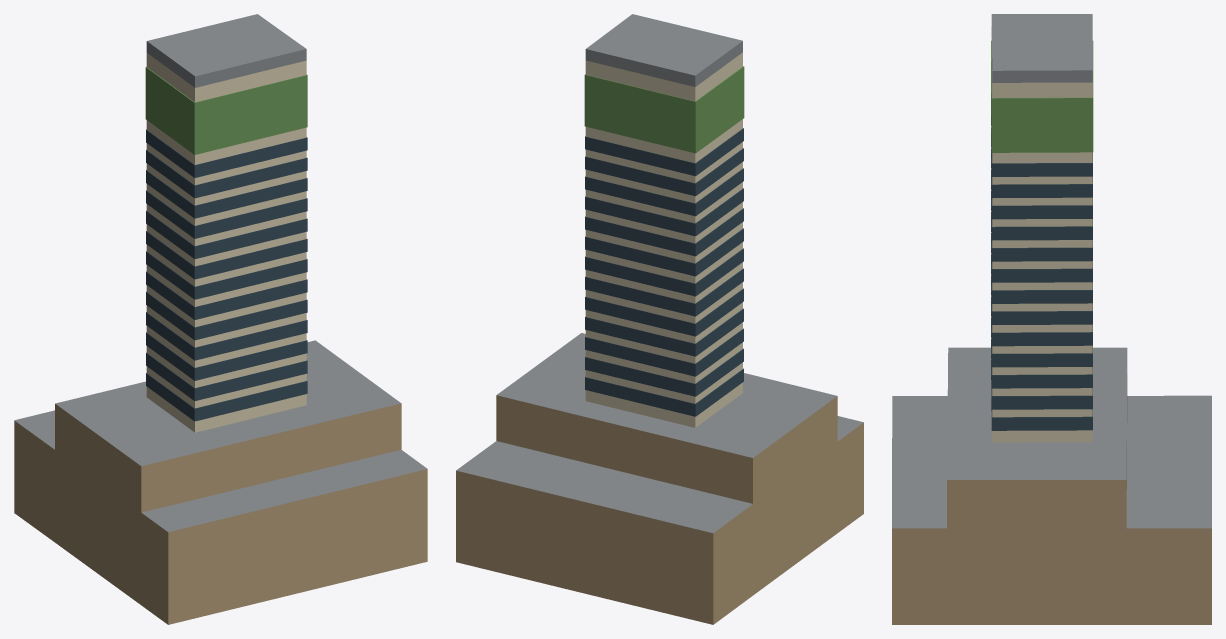
File: 136_south_temple_street.glb
3 views of the same model, side by side, from view 1: azimuth 30°, elevation 25°; view 2: azimuth 150°, elevation 25°; view 3: azimuth 270°, elevation 25° (orthographic). The views are drawn at different scales.
Visible parts, largest first — view 1: 136_South_Temple_Street; view 2: 136_South_Temple_Street; view 3: 136_South_Temple_Street.
Part boxes in pixels (left/top/right/bottom): 136_South_Temple_Street: left=14, top=14, right=427, bottom=624; 136_South_Temple_Street: left=456, top=14, right=863, bottom=624; 136_South_Temple_Street: left=892, top=14, right=1211, bottom=624.
Bounding box in the file's own units: 47.02 × 85.5 × 47.94.
